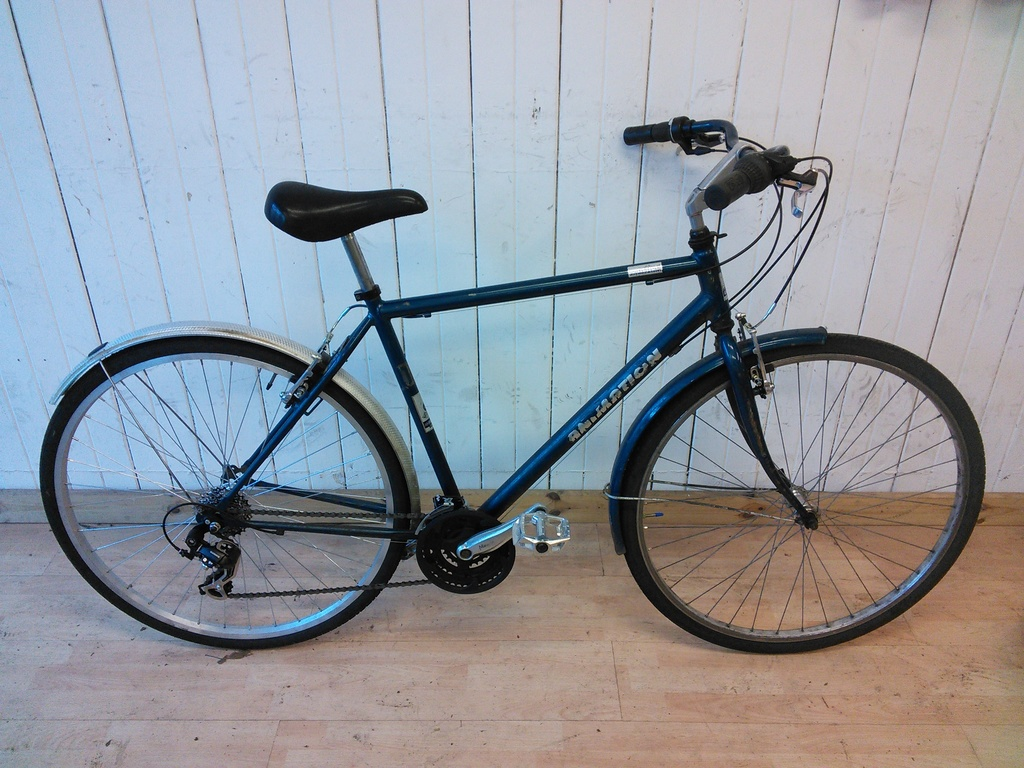Bike: (68, 115, 932, 664)
